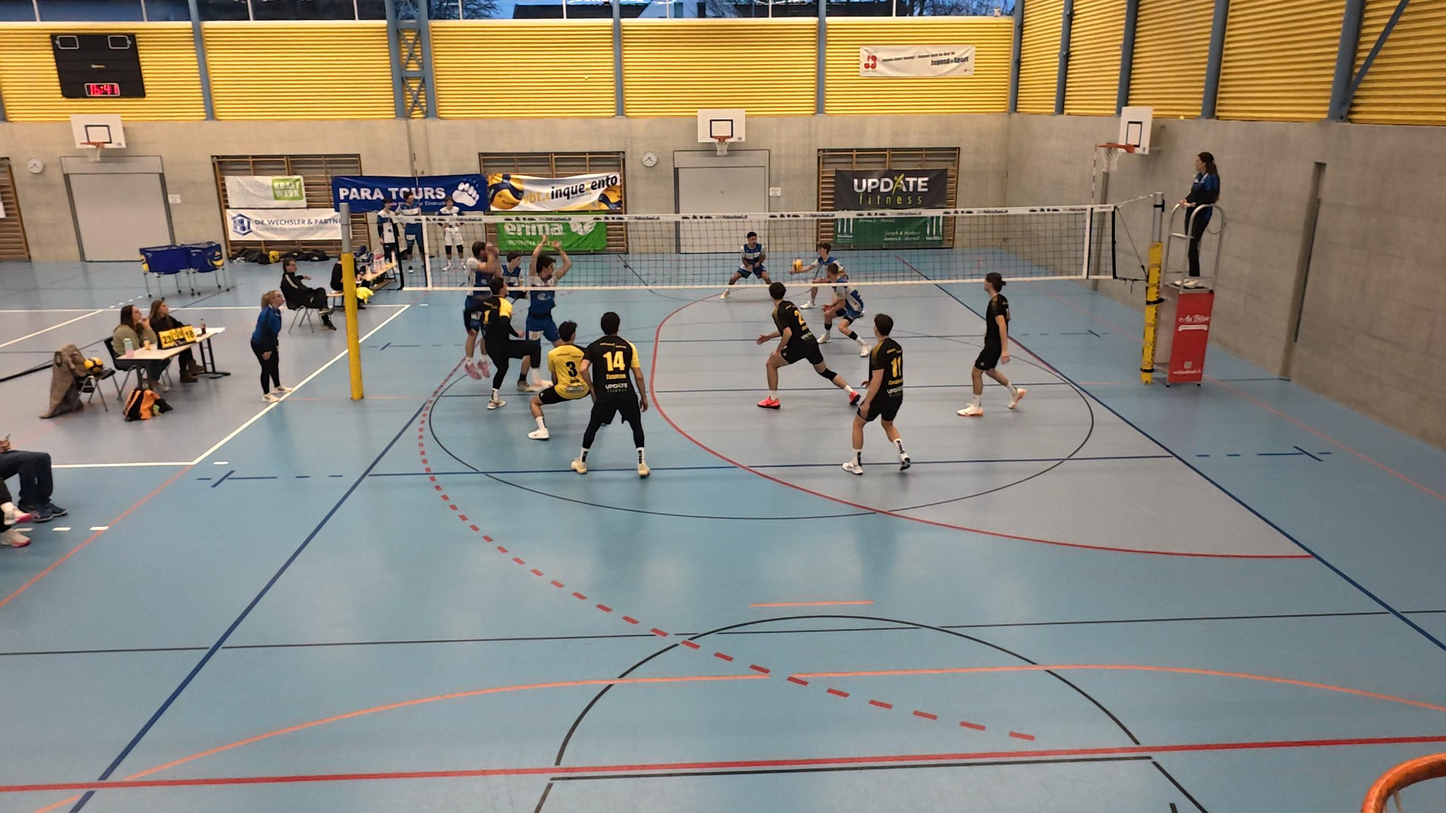Dig: (785, 234, 852, 307)
Player: (742, 271, 863, 415), (571, 313, 651, 477), (847, 313, 911, 474), (956, 273, 1027, 417), (456, 232, 514, 382), (523, 235, 572, 390), (524, 322, 585, 445), (479, 275, 533, 404), (815, 259, 863, 361), (723, 232, 776, 305), (493, 236, 530, 299)
ball: (789, 251, 807, 275)
